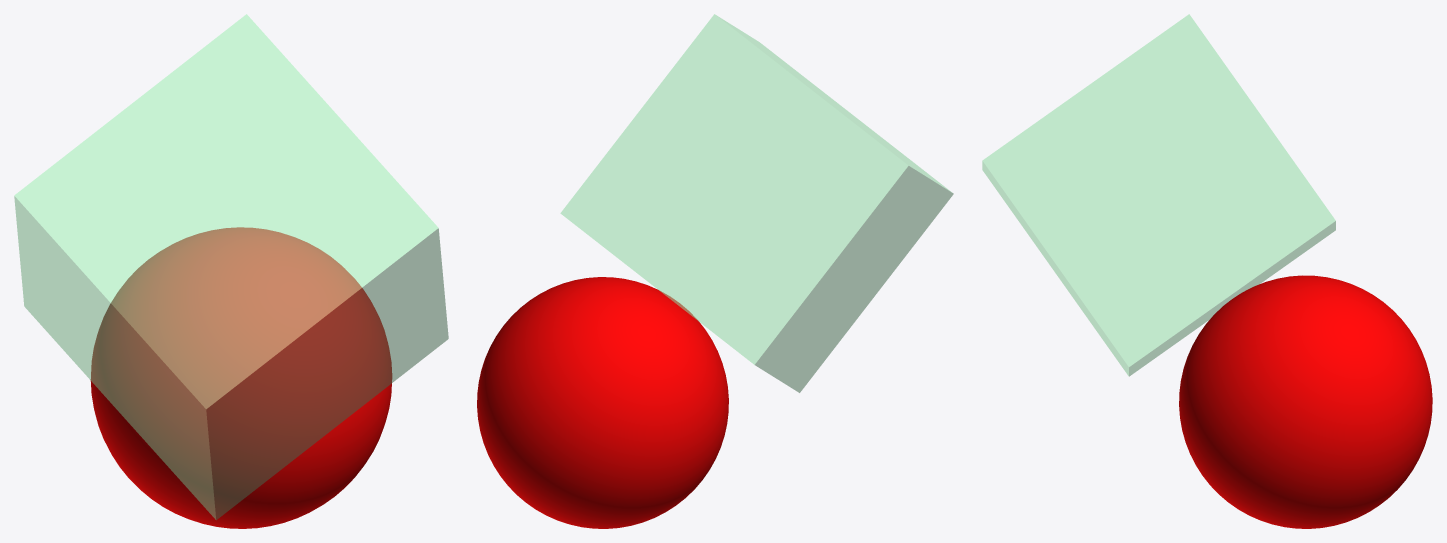
3 views of the same model, side by side, from view 1: azimuth 30°, elevation 25°; view 2: azimuth 150°, elevation 25°; view 3: azimuth 270°, elevation 25° (orthographic). The views are drawn at different scales.
Visible parts, largest first — view 1: Cube, Sphere; view 2: Cube, Sphere; view 3: Cube, Sphere.
Part boxes in pixels (<box>): Cube: <box>14,14,448,519</box>; Sphere: <box>90,227,392,528</box>; Cube: <box>560,14,953,392</box>; Sphere: <box>477,277,728,528</box>; Cube: <box>982,14,1335,376</box>; Sphere: <box>1179,275,1432,528</box>.
Bounding box in the file's own units: 3.27 × 4.15 × 3.55.
